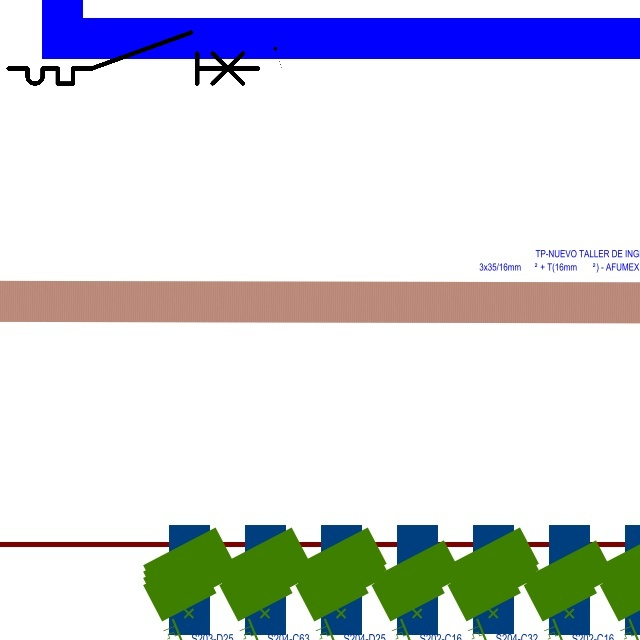interruptor_termomagnetico: (2, 26, 264, 90)
